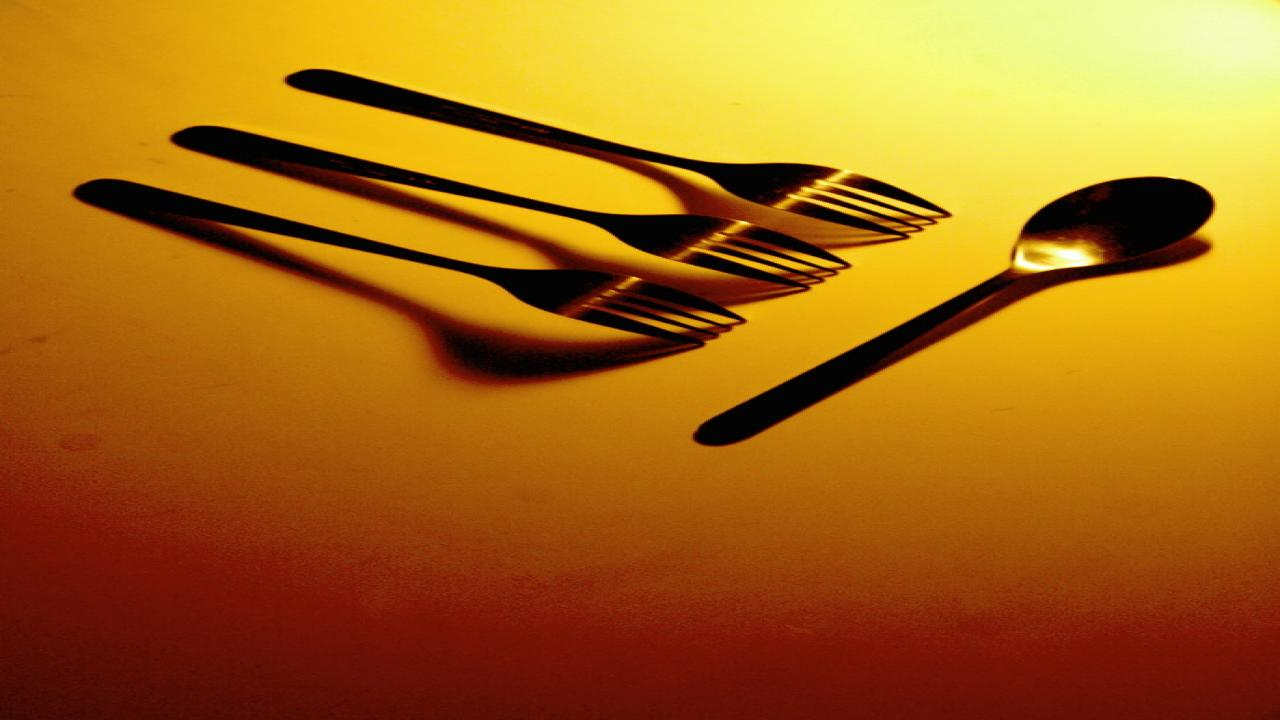fork: (280, 64, 958, 240), (170, 122, 862, 294), (69, 174, 753, 344)
